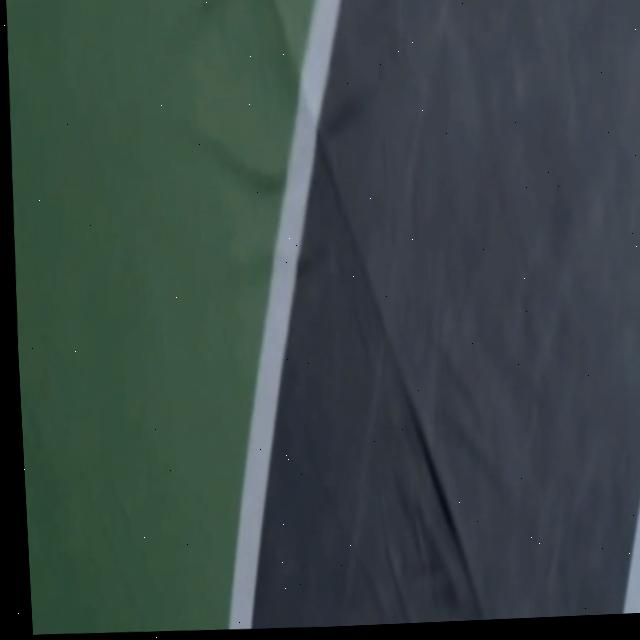center: (623, 504, 640, 614)
right: (230, 0, 341, 629)
